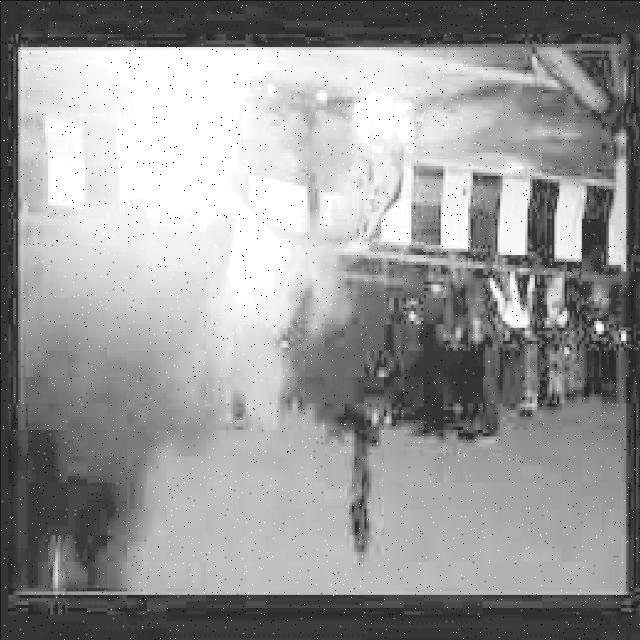api: (115, 58, 417, 308)
